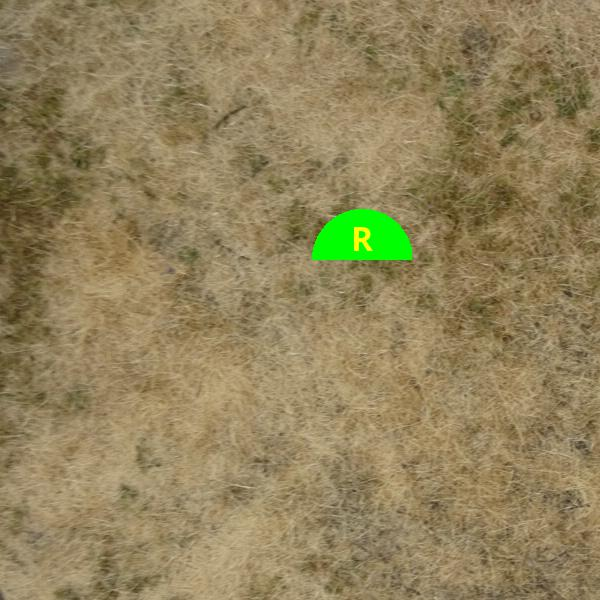SemiCircle: (312, 184, 412, 284)
